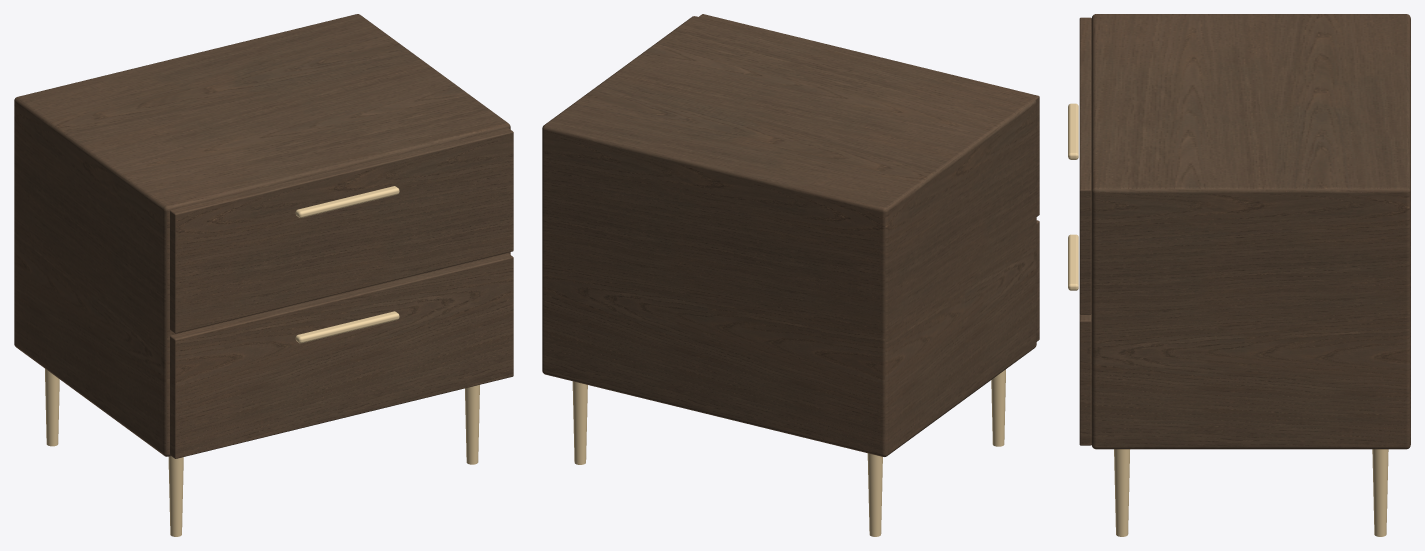
The model's file is nightstand_walnut.gltf.
The picture shows the model from 3 angles, left to right: view 1: azimuth 30°, elevation 25°; view 2: azimuth 150°, elevation 25°; view 3: azimuth 270°, elevation 25°; orthographic projection. The views are drawn at different scales.
Visible parts, largest first — view 1: walnut_veneer, brushed_brass; view 2: walnut_veneer, brushed_brass; view 3: walnut_veneer, brushed_brass.
Part boxes in pixels (<box>): walnut_veneer: <box>14,14,513,458</box>; brushed_brass: <box>45,186,479,536</box>; walnut_veneer: <box>542,14,1039,456</box>; brushed_brass: <box>572,369,1005,536</box>; walnut_veneer: <box>1079,14,1410,449</box>; brushed_brass: <box>1068,103,1388,536</box>.
Bounding box in the file's own units: 0.55 × 0.52 × 0.451.
Materials: 2 (1 with a texture image).
